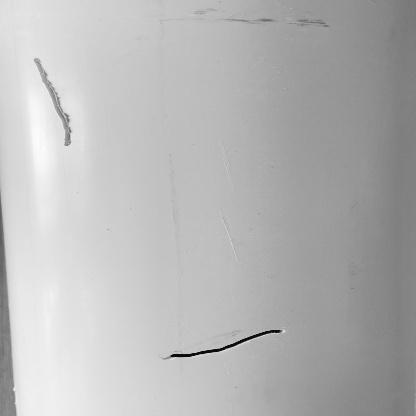fengxi: (166, 325, 290, 363)
sunshang: (29, 57, 80, 152)
